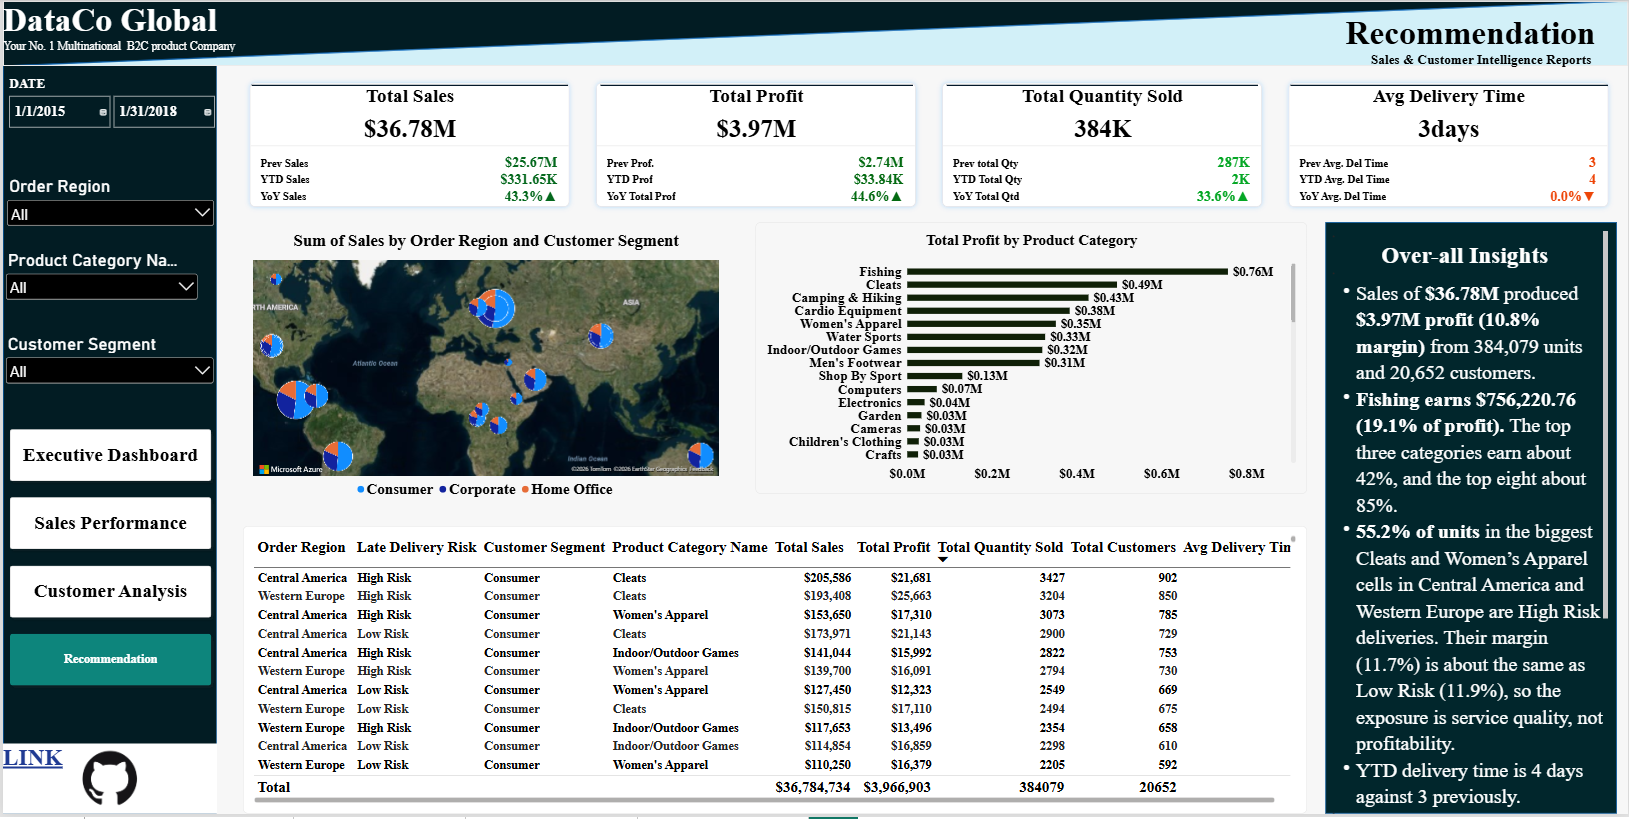

The page's visual inventory and layout, read from the dashboard file:
{"tool":"powerbi","page":{"name":"Recommendation","canvas":[2600,1300],"ordinal":3},"visuals":[{"type":"shape","box":[0,0,342,1300],"z":0},{"type":"shape","box":[0,0,2600,104],"z":1000},{"type":"shape","box":[0,0,2600,104],"z":2000},{"type":"textbox","box":[0,0,630,104],"z":3000},{"type":"textbox","box":[2148,20,434,254],"z":4000},{"type":"pageNavigator","box":[2,676,340,428],"z":5000},{"type":"slicer","fields":{"Values":["Dim_Location.Order Region"]},"box":[2,280,340,88],"z":6000},{"type":"slicer","fields":{"Values":["Dim_Product.Product Category Name"]},"box":[0,398,316,84],"z":7000},{"type":"slicer","fields":{"Values":["Dim_Customer.Customer Segment"]},"box":[0,532,342,90],"z":8000},{"type":"image","box":[0,1188,342,112],"z":9000},{"type":"textbox","box":[0,1188,130,56],"z":10000},{"type":"slicer","fields":{"Values":["Dim_Dates.Date"]},"box":[2,120,340,154],"z":11000},{"type":"cardVisual","fields":{"Data":["_Measures.Total Sales","_Measures.Total Profit","_Measures.Total Quantity","_Measures.Avg Delivery Time"]},"box":[384,120,2198,220],"z":12000},{"type":"tableEx","fields":{"Values":["Dim_Location.Order Region","Dim_Shipping Status.Late Delivery Risk","Dim_Customer.Customer Segment","Dim_Product.Product Category Name","_Measures.Total Sales","_Measures.Total Profit","_Measures.Total Quantity Sold","_Measures.Total Customers","_Measures.Avg Delivery Time"]},"box":[384,840,1702,460],"z":13000},{"type":"azureMap","fields":{"Category":["Dim_Location.Order Region"],"Series":["Dim_Customer.Customer Segment"],"Size":["Sum(FactSales.Sales)"]},"box":[384,354,778,462],"z":14000},{"type":"clusteredBarChart","title":"Total Profit by Product Category","fields":{"Category":["Dim_Product.Product Category Name"],"Y":["Sum(FactSales.Order Profit Per Order)"]},"box":[1204,354,882,434],"z":15000},{"type":"shape","box":[398,72,506,126],"z":16000},{"type":"shape","box":[956,72,500,126],"z":17000},{"type":"shape","box":[1510,72,498,126],"z":18000},{"type":"shape","box":[2060,72,508,126],"z":19000},{"type":"shape","box":[2116,354,466,946],"z":21000},{"type":"textbox","box":[2116,368,452,932],"z":21500}]}

Visuals, with their boxes in screenshot pixels (x1, y1, x2, y2), scaled from the page's 2600x1300 canvas onto the 1629x819 screenshot:
shape: 0,0,214,818
shape: 0,0,1628,66
shape: 0,0,1628,66
textbox: 0,0,395,66
textbox: 1346,13,1618,173
pageNavigator: 1,426,214,696
slicer - Dim_Location.Order Region: 1,176,214,232
slicer - Dim_Product.Product Category Name: 0,251,198,304
slicer - Dim_Customer.Customer Segment: 0,335,214,392
image: 0,748,214,818
textbox: 0,748,81,784
slicer - Dim_Dates.Date: 1,76,214,173
cardVisual - _Measures.Total Sales x _Measures.Total Profit: 241,76,1618,214
tableEx - Dim_Location.Order Region x Dim_Shipping Status.Late Delivery Risk: 241,529,1307,818
azureMap - Dim_Location.Order Region x Dim_Customer.Customer Segment: 241,223,728,514
"Total Profit by Product Category" clusteredBarChart: 754,223,1307,496
shape: 249,45,566,125
shape: 599,45,912,125
shape: 946,45,1258,125
shape: 1291,45,1609,125
shape: 1326,223,1618,818
textbox: 1326,232,1609,818
